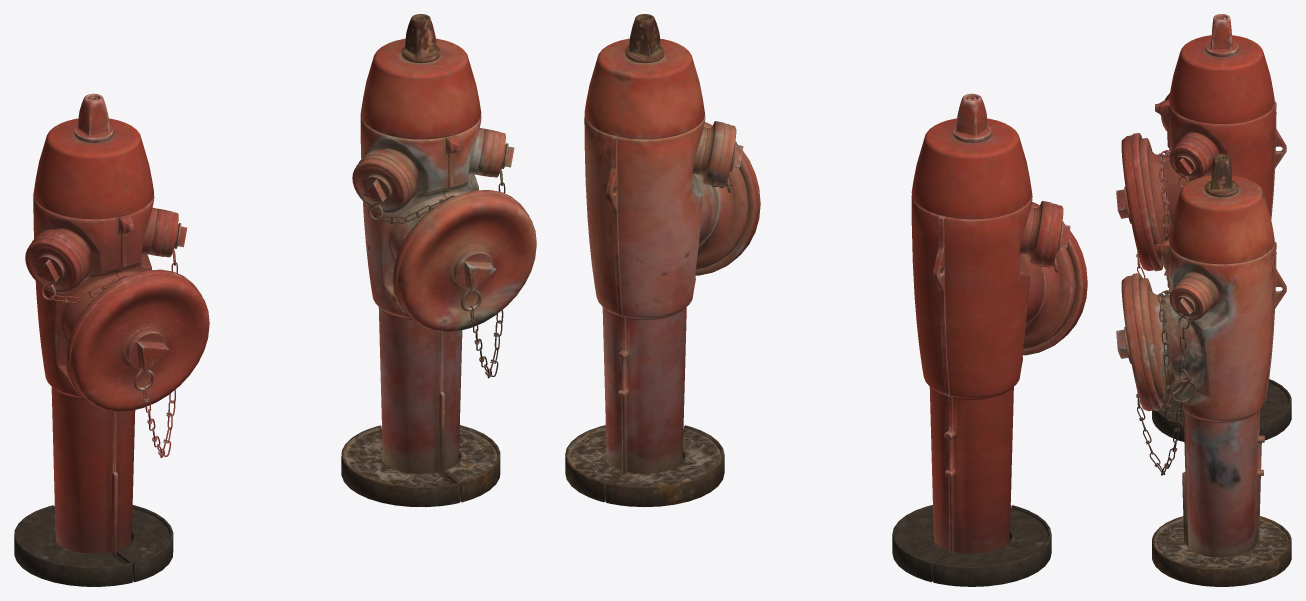
File: fire_hydrant.glb
3 renders of one model, left to right at view 1: azimuth 30°, elevation 25°; view 2: azimuth 150°, elevation 25°; view 3: azimuth 270°, elevation 25°, orthographic. The views are drawn at different scales.
Parts seen in each view (by area): view 1: fire_hydrant_aged, fire_hydrant, fire_hydrant_cap_01, fire_hydrant_cap_01_aged, fire_hydrant_cap_03_aged, fire_hydrant_cap_03, fire_hydrant_chain_aged, fire_hydrant_chain, fire_hydrant_cap_02, fire_hydrant_cap_02_aged; view 2: fire_hydrant, fire_hydrant_aged, fire_hydrant_cap_01, fire_hydrant_cap_01_aged, fire_hydrant_cap_03, fire_hydrant_cap_03_aged; view 3: fire_hydrant_aged, fire_hydrant, fire_hydrant_cap_01, fire_hydrant_cap_01_aged, fire_hydrant_chain_aged, fire_hydrant_cap_02_aged, fire_hydrant_cap_02, fire_hydrant_chain.
Part boxes in pixels (bbox=[...]): fire_hydrant_aged: bbox=[341, 14, 500, 506]; fire_hydrant: bbox=[14, 93, 173, 586]; fire_hydrant_cap_01: bbox=[65, 269, 209, 411]; fire_hydrant_cap_01_aged: bbox=[392, 190, 536, 331]; fire_hydrant_cap_03_aged: bbox=[352, 155, 411, 213]; fire_hydrant_cap_03: bbox=[25, 235, 84, 293]; fire_hydrant_chain_aged: bbox=[368, 145, 505, 378]; fire_hydrant_chain: bbox=[41, 224, 178, 457]; fire_hydrant_cap_02: bbox=[159, 210, 187, 257]; fire_hydrant_cap_02_aged: bbox=[486, 130, 514, 177]; fire_hydrant: bbox=[892, 93, 1075, 586]; fire_hydrant_aged: bbox=[565, 14, 748, 506]; fire_hydrant_cap_01: bbox=[1022, 202, 1087, 355]; fire_hydrant_cap_01_aged: bbox=[695, 122, 760, 275]; fire_hydrant_cap_03: bbox=[1041, 203, 1070, 266]; fire_hydrant_cap_03_aged: bbox=[713, 123, 743, 186]; fire_hydrant_aged: bbox=[1139, 154, 1291, 586]; fire_hydrant: bbox=[1139, 14, 1291, 441]; fire_hydrant_cap_01: bbox=[1116, 133, 1162, 271]; fire_hydrant_cap_01_aged: bbox=[1116, 273, 1162, 411]; fire_hydrant_chain_aged: bbox=[1136, 289, 1196, 475]; fire_hydrant_cap_02_aged: bbox=[1169, 281, 1209, 320]; fire_hydrant_cap_02: bbox=[1169, 141, 1209, 180]; fire_hydrant_chain: bbox=[1136, 149, 1194, 279].
Size of the model in its own units: 0.8746 by 0.7995 by 0.3178.
Materials: 2 (2 with a texture image).
